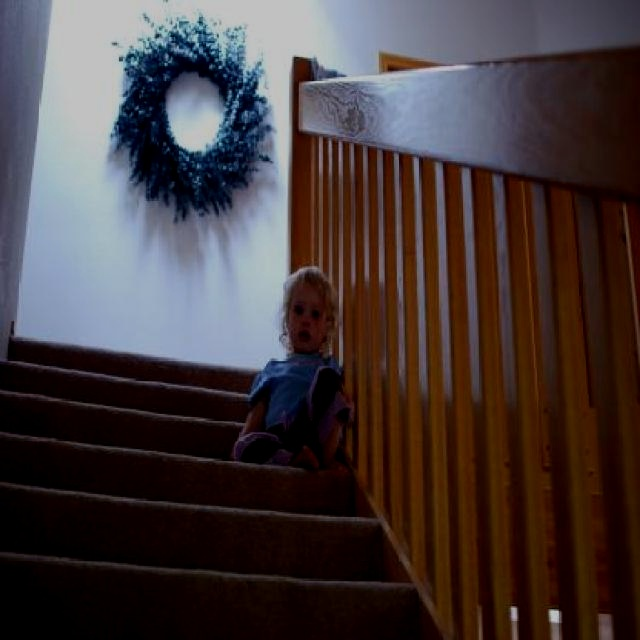stair: (0, 323, 420, 640)
